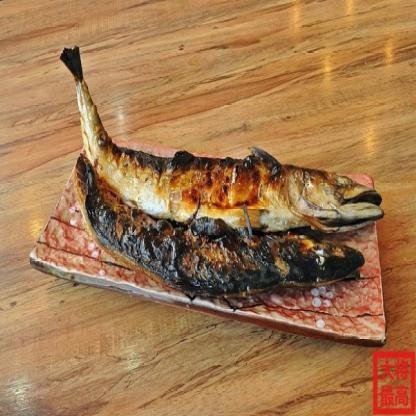Peixe: (45, 42, 388, 324)
